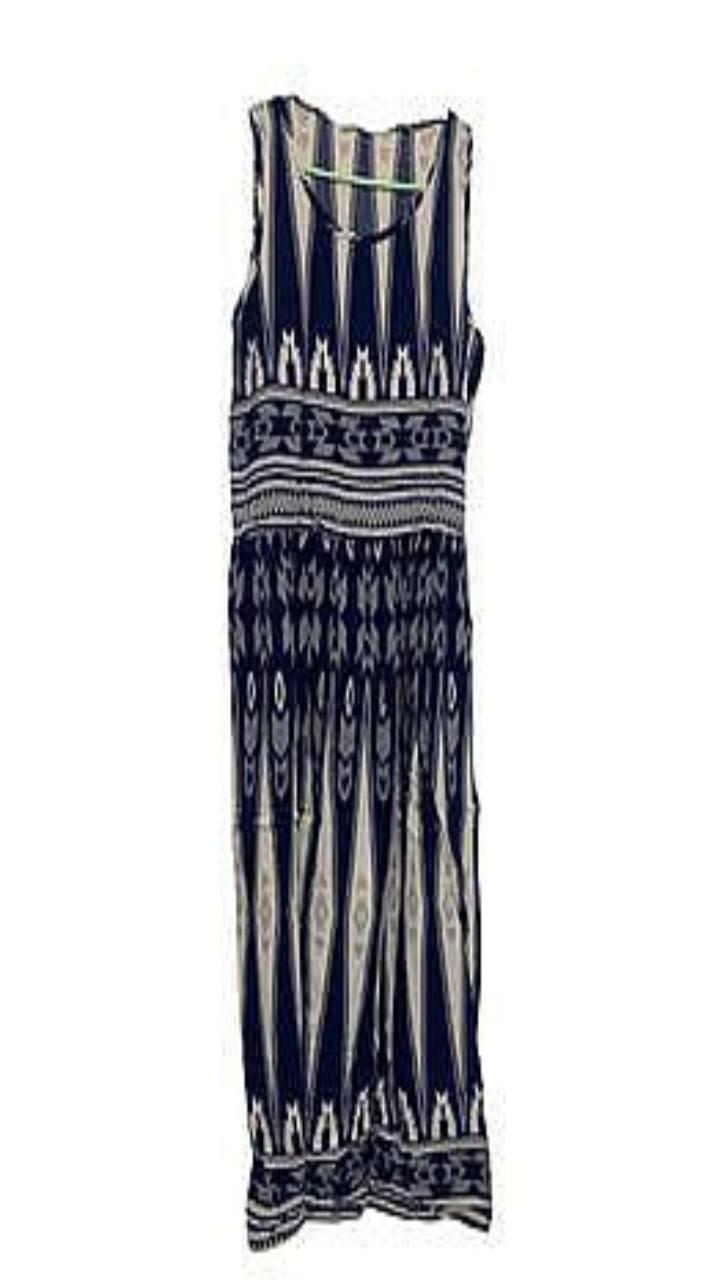Dresses: (229, 95, 490, 1248)
